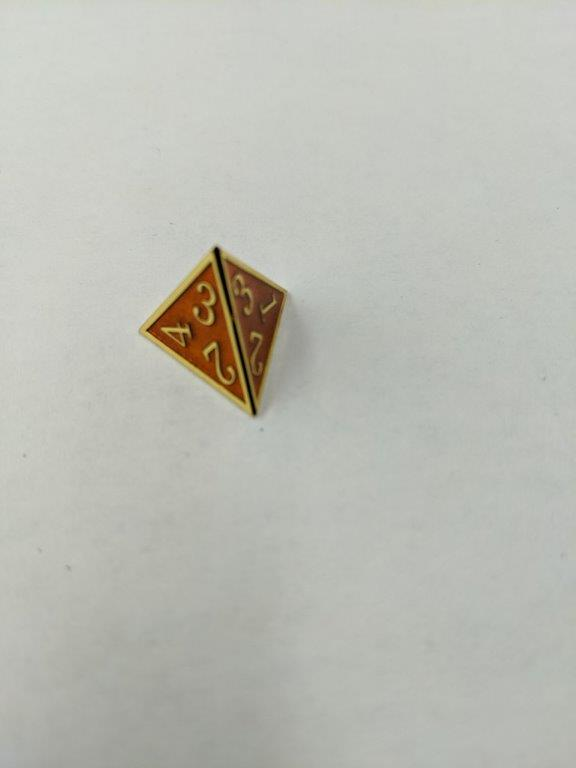d4-3: (132, 241, 295, 423)
